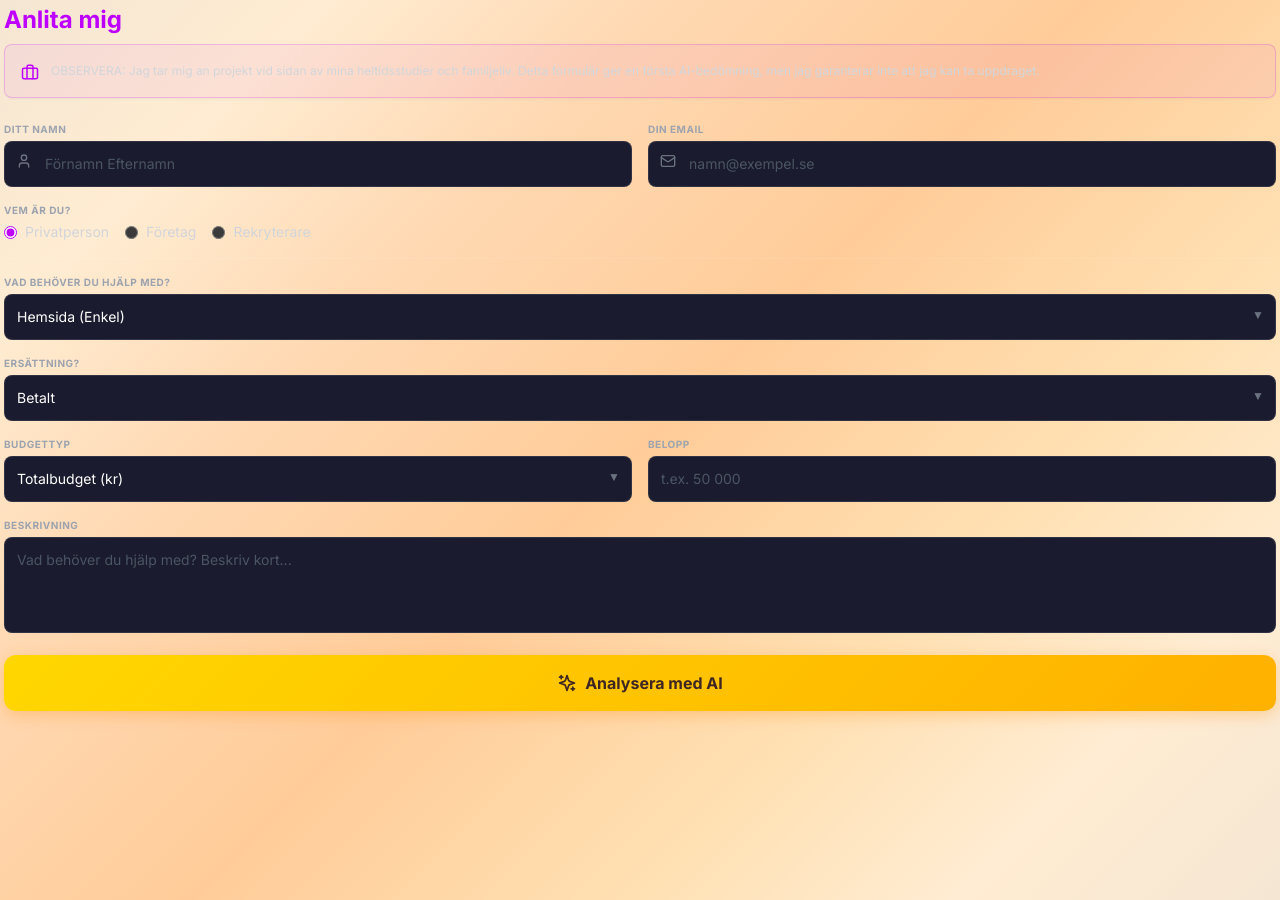
Test: HireMe Component › Budget Type Selector › should hide budget fields when "Pro Bono" is selected
Select "Pro Bono (Gratis/Erfarenhet)" in the dropdown below "ERSÄTTNING?" at [640, 398], box [4, 375, 1276, 421]
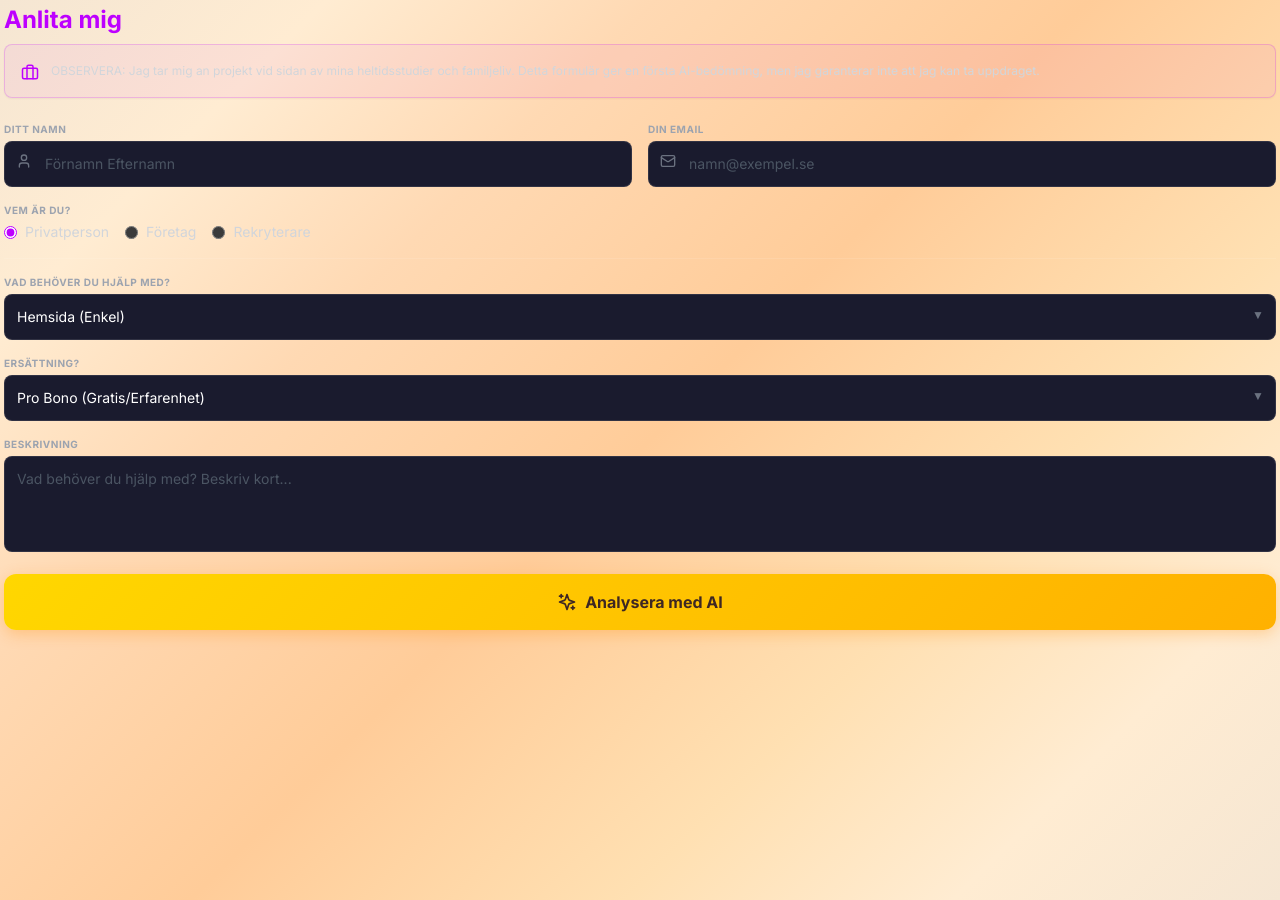
expect the text "BUDGETTYP" is gone: met
expect the text "BELOPP" is gone: met
